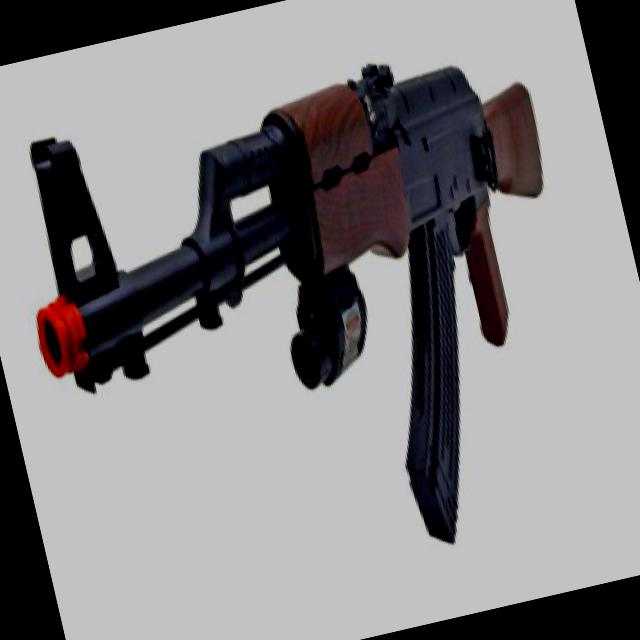long weapon: (0, 11, 625, 625)
